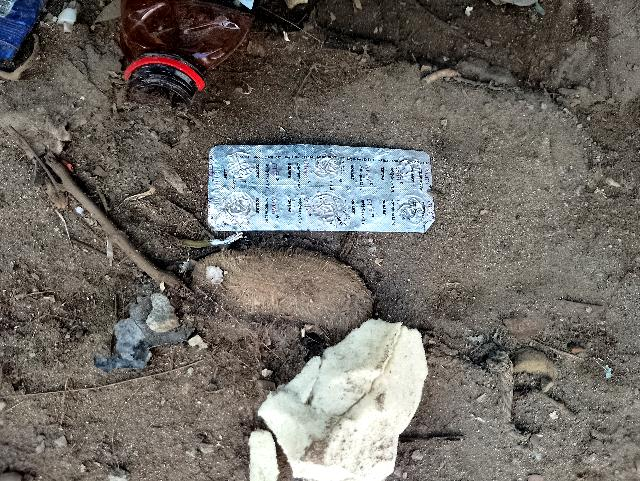medicine: (200, 128, 440, 238)
